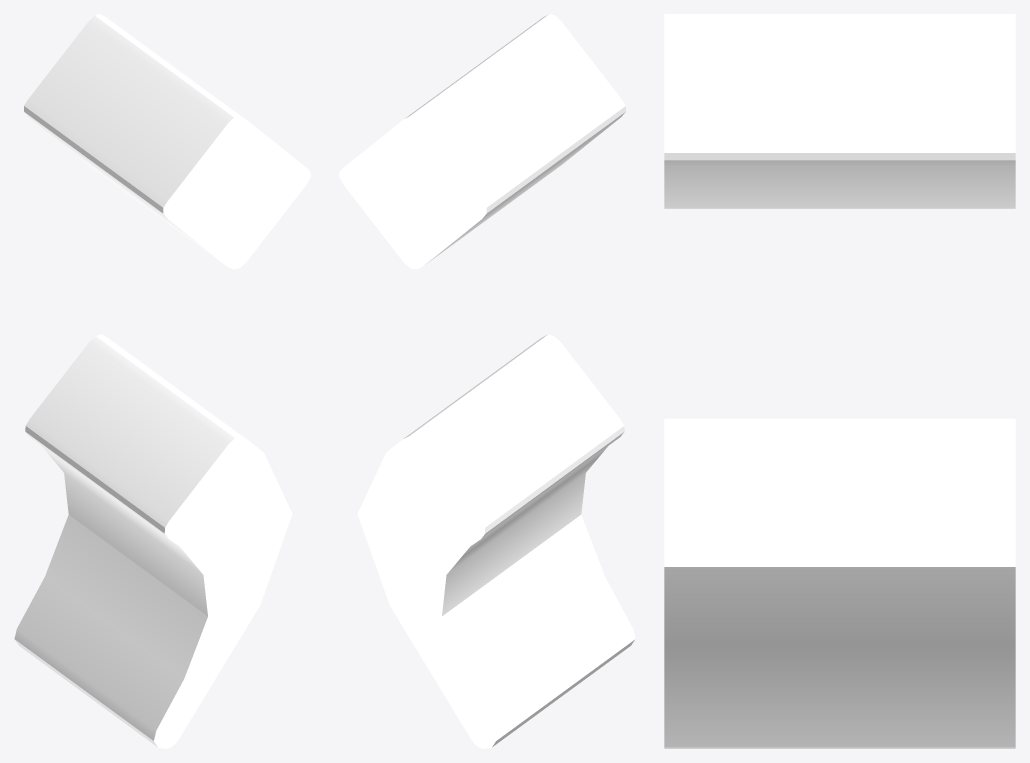
File: 3bdee5e5-1fe2-4d2d-bf13-be368aa31a38.glb
3 renders of one model, left to right at view 1: azimuth 30°, elevation 25°; view 2: azimuth 150°, elevation 25°; view 3: azimuth 270°, elevation 25°, orthographic. The views are drawn at different scales.
Parts seen in each view (by area): view 1: ;_Soul_White; view 2: ;_Soul_White; view 3: ;_Soul_White.
Boxes of the visible parts, x1,y1,x2,y2 form: ;_Soul_White: (14, 14, 310, 748); ;_Soul_White: (339, 14, 635, 748); ;_Soul_White: (664, 14, 1015, 748).
Size of what is drawn, in the model's own units: 0.0292 by 0.1095 by 0.045.
2 materials, 2 textured.
